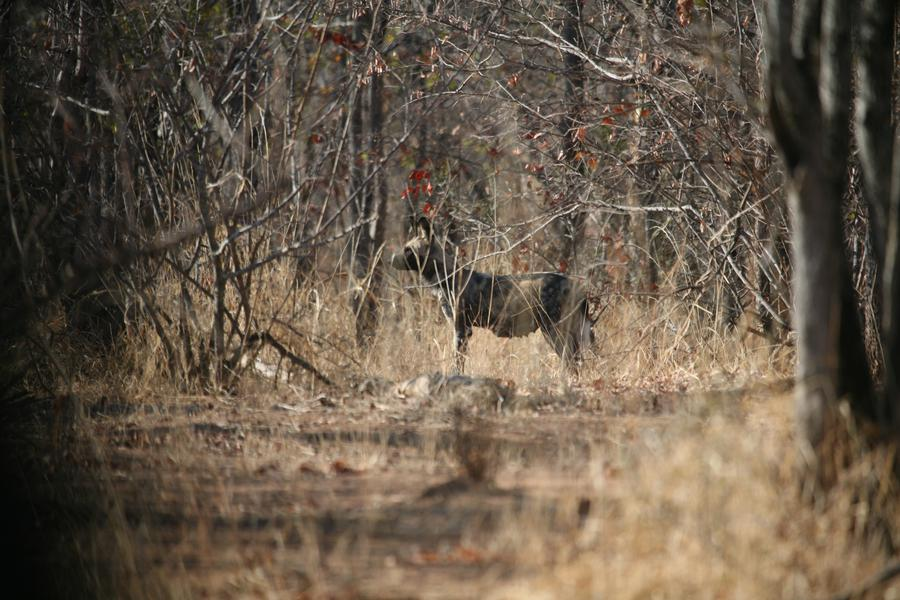wilddog: (401, 224, 590, 353)
